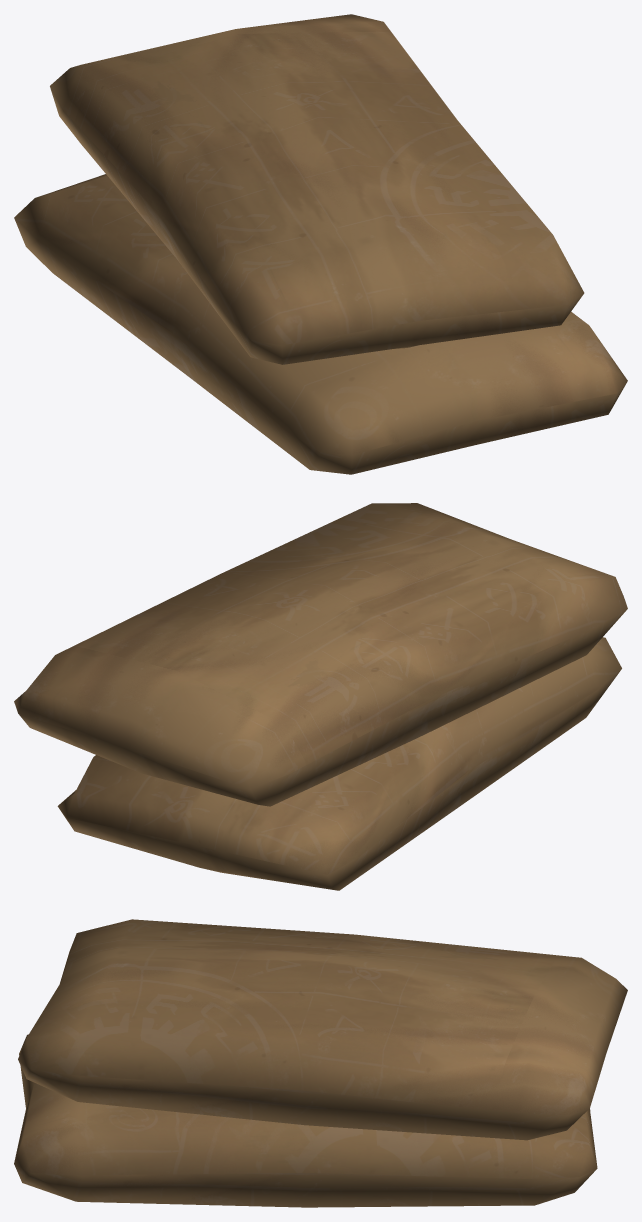
File: prop_Sack_C.fbx
The picture shows the model from 3 angles, top to bottom: view 1: azimuth 30°, elevation 25°; view 2: azimuth 150°, elevation 25°; view 3: azimuth 270°, elevation 25°; orthographic projection. The views are drawn at different scales.
Parts seen in each view (by area): view 1: prop_Sack_C; view 2: prop_Sack_C; view 3: prop_Sack_C.
Part boxes in pixels (x1,y1,x2,y2): prop_Sack_C: [14, 14, 627, 474]; prop_Sack_C: [14, 503, 627, 890]; prop_Sack_C: [14, 919, 627, 1207].
Size of the model in its own units: 85.55 by 50.16 by 130.
